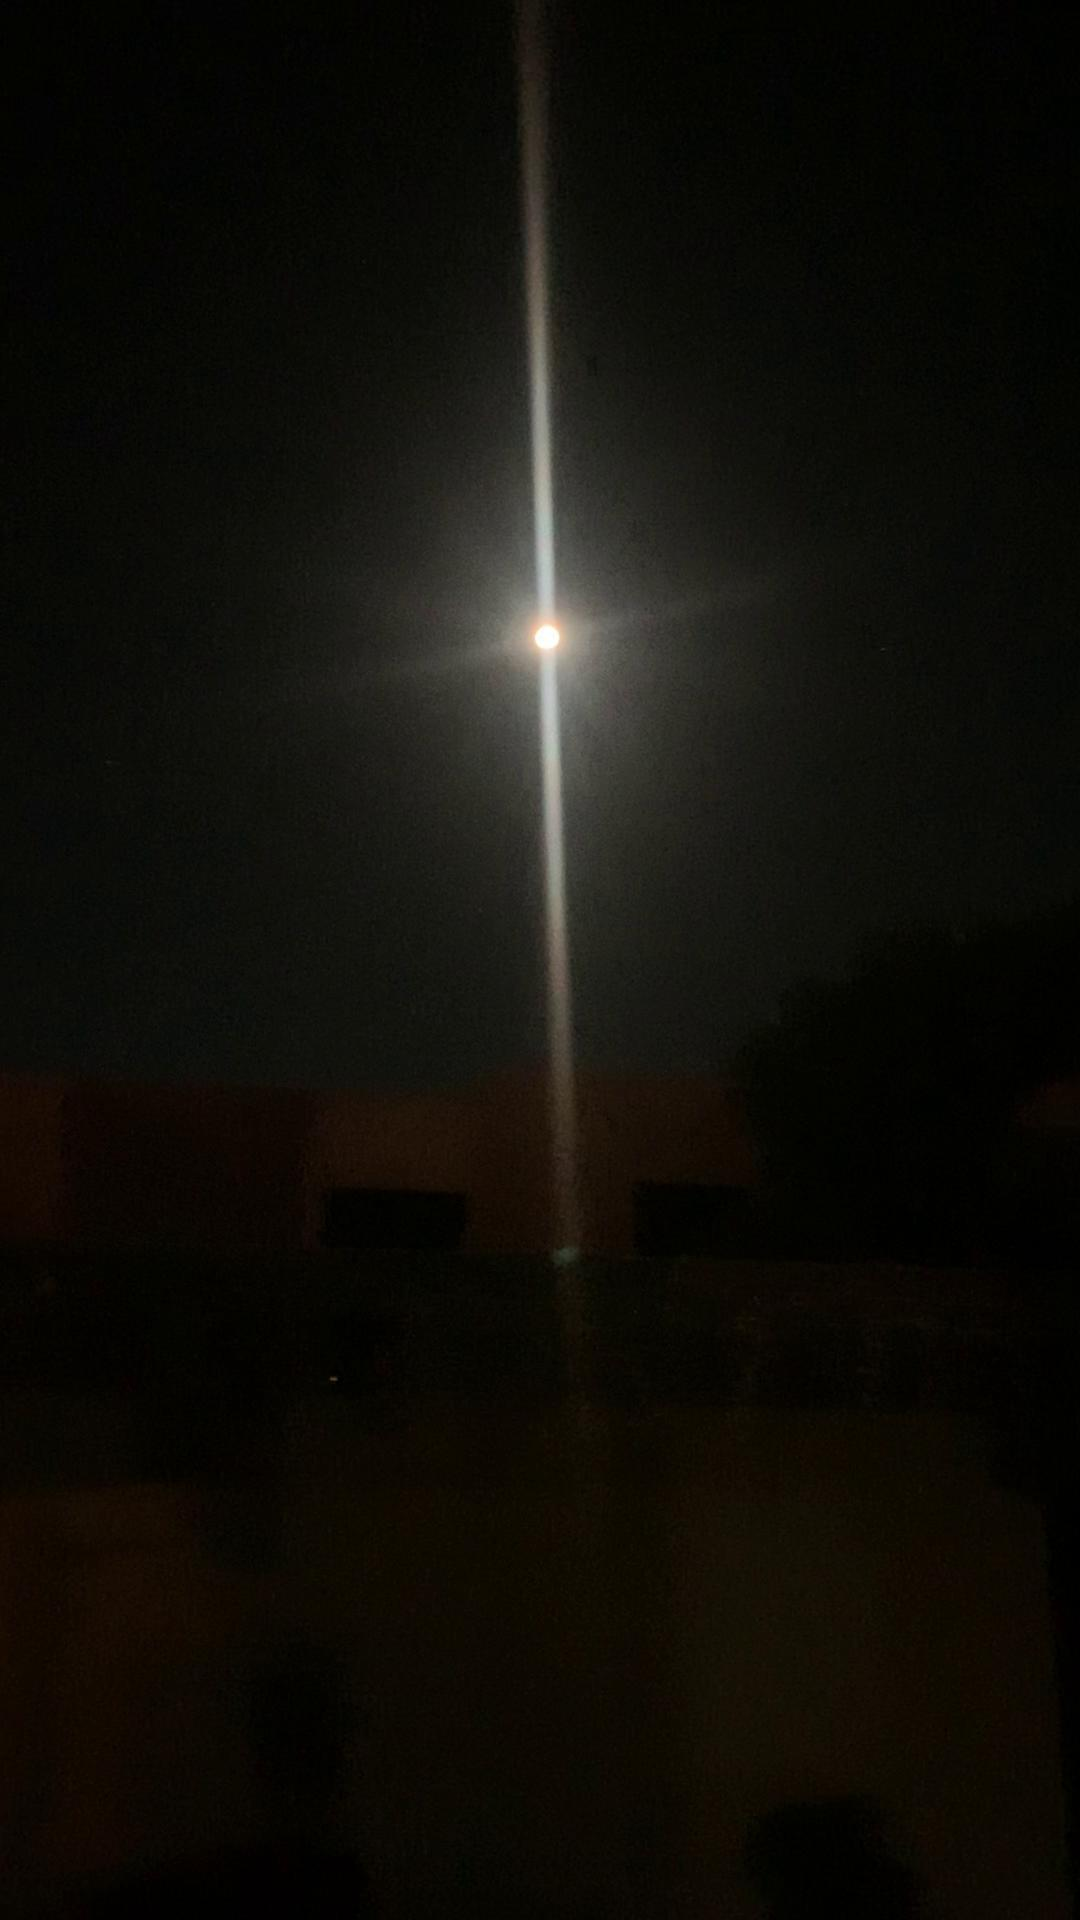moon: (509, 603, 583, 682)
